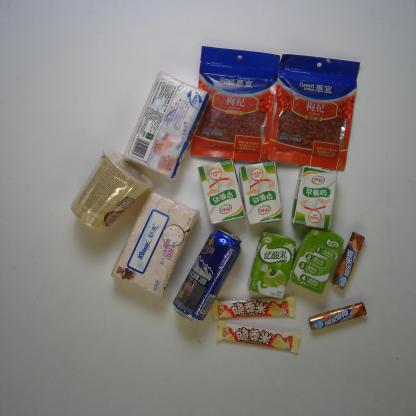Alcohol: (172, 227, 242, 323)
Candy: (332, 231, 366, 291), (308, 300, 368, 332)
Chocolate: (215, 320, 301, 354), (211, 296, 296, 320)
Dried Fruit: (267, 52, 361, 172), (190, 44, 281, 162)
Instant Noodles: (70, 148, 154, 232)
Milk: (288, 226, 344, 296), (247, 232, 297, 300), (196, 159, 245, 226), (289, 166, 339, 230), (239, 160, 284, 225)
Tissue: (121, 70, 211, 180), (110, 190, 201, 298)
